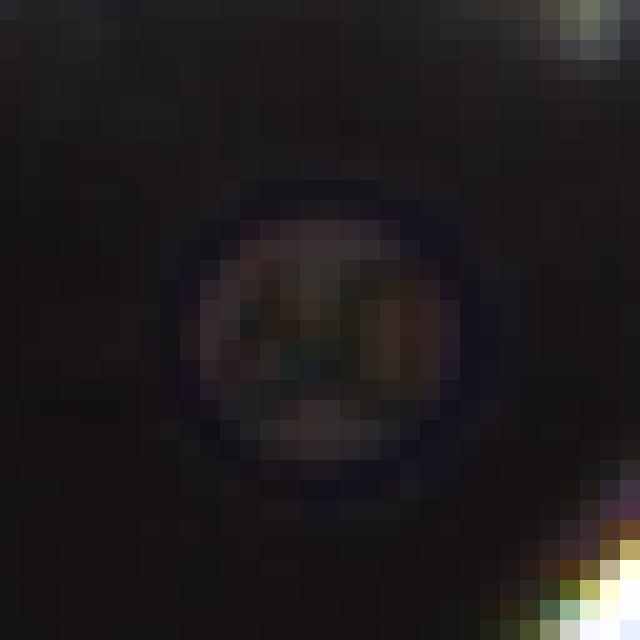SPEED-LIMIT-60: (150, 164, 497, 501)
